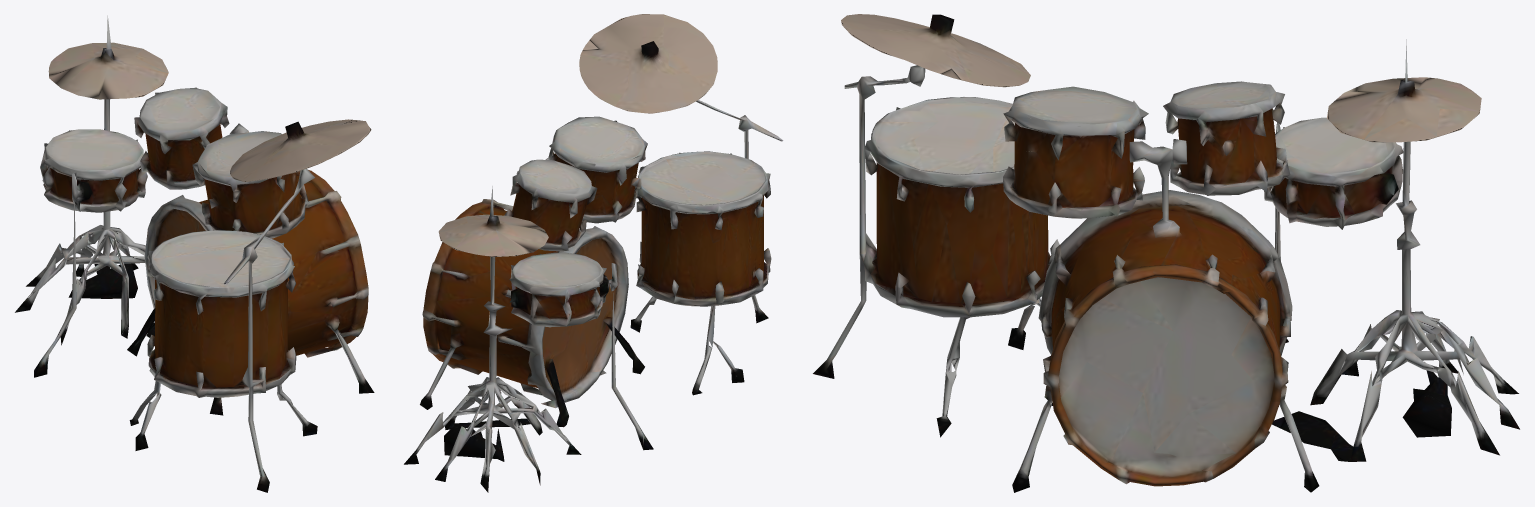
File: drumkit-v2.glb
3 renders of one model, left to right at view 1: azimuth 30°, elevation 25°; view 2: azimuth 150°, elevation 25°; view 3: azimuth 270°, elevation 25°, orthographic. The views are drawn at different scales.
Parts seen in each view (by area): view 1: prop__drumkit; view 2: prop__drumkit; view 3: prop__drumkit.
Boxes of the visible parts, box(x1,y1,x2,y2) form: prop__drumkit: box(15, 15, 374, 492); prop__drumkit: box(404, 14, 783, 492); prop__drumkit: box(813, 14, 1519, 492).
Size of the model in its own units: 0.9087 by 1.1 by 1.71.
Materials: 1 (1 with a texture image).
